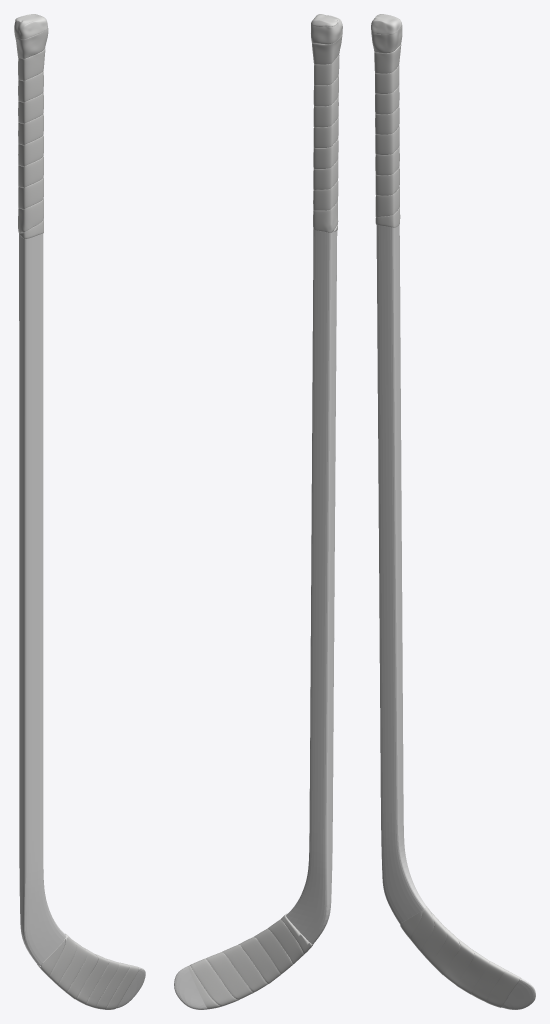
The model's file is hockeystick_v2.fbx.
3 views of the same model, side by side, from view 1: azimuth 30°, elevation 25°; view 2: azimuth 150°, elevation 25°; view 3: azimuth 330°, elevation 25° (orthographic). The views are drawn at different scales.
Parts seen in each view (by area): view 1: Stick, Tape; view 2: Stick, Tape; view 3: Stick, Tape.
Boxes of the visible parts, x1,y1,x2,y2 form: Stick: (19,233,145,1008); Tape: (14,14,139,1009); Stick: (174,229,337,1009); Tape: (188,14,342,1009); Stick: (376,225,535,1009); Tape: (371,14,521,1007).
Bounding box in the file's own units: 0.2661 × 1.76 × 0.0899.
Materials: 2 (1 with a texture image).
